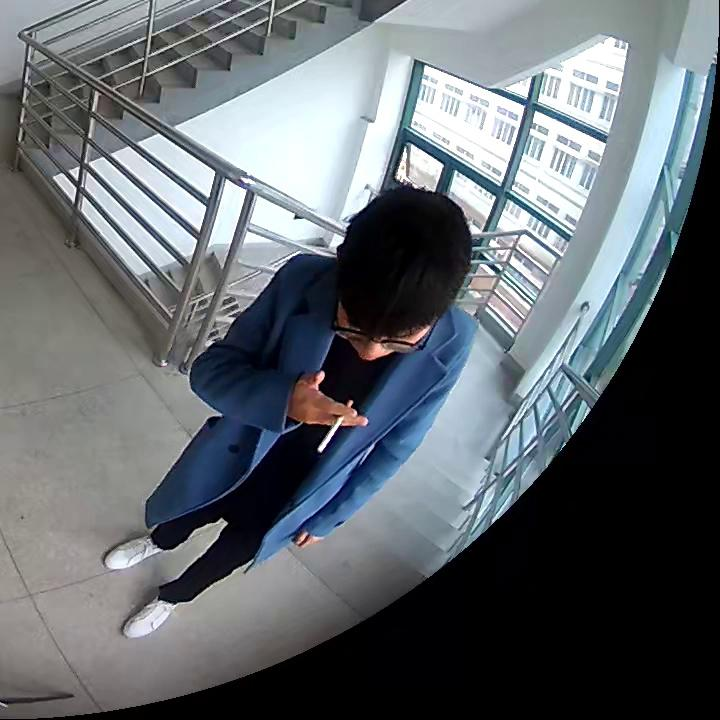handsmoke: (289, 371, 370, 455)
handwithoutsmoke: (289, 527, 319, 550)
mouthwithoutsmoke: (330, 180, 473, 361)
